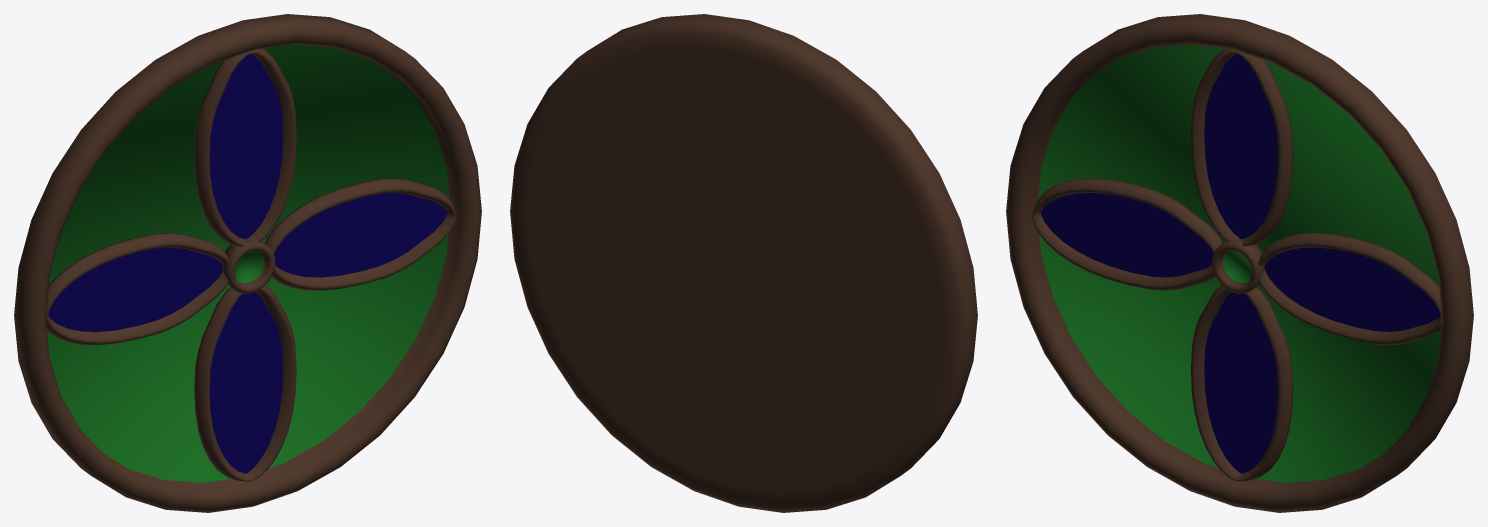
Rendered from Janela redonda.fbx.
3 renders of one model, left to right at view 1: azimuth 30°, elevation 25°; view 2: azimuth 150°, elevation 25°; view 3: azimuth 330°, elevation 25°, orthographic.
Visible parts, largest first — view 1: Janela Redonda; view 2: Janela Redonda; view 3: Janela Redonda.
Boxes of the visible parts, left/top/right/bottom form: Janela Redonda: left=14, top=14, right=481, bottom=512; Janela Redonda: left=510, top=14, right=977, bottom=512; Janela Redonda: left=1006, top=14, right=1473, bottom=512.
Bounding box in the file's own units: 277 × 277 × 18.89.
